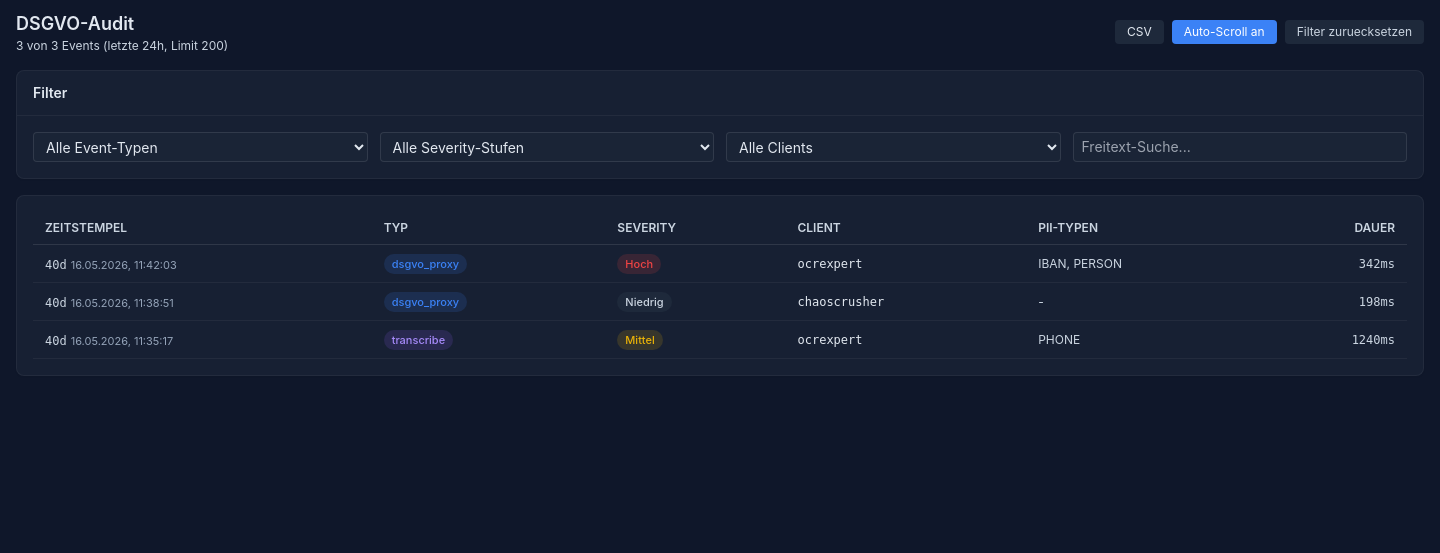
Test case: AuditTab › zweiter Klick auf dieselbe Zeile klappt sie wieder ein
Click the row with test id "audit-row-aaa-001" at (720, 264), box [33,244,1407,282]
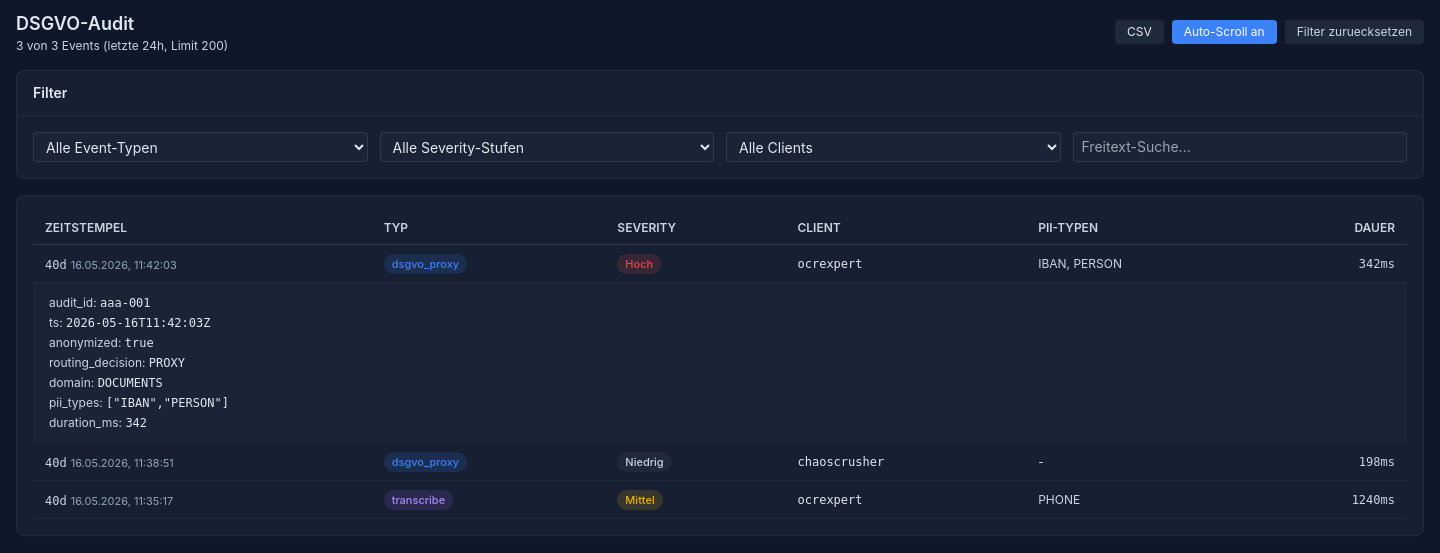
Expected: the row with test id "audit-row-expanded-aaa-001" is shown, [33,282,1407,443]
Click the row with test id "audit-row-aaa-001" at (720, 264), box [33,244,1407,282]
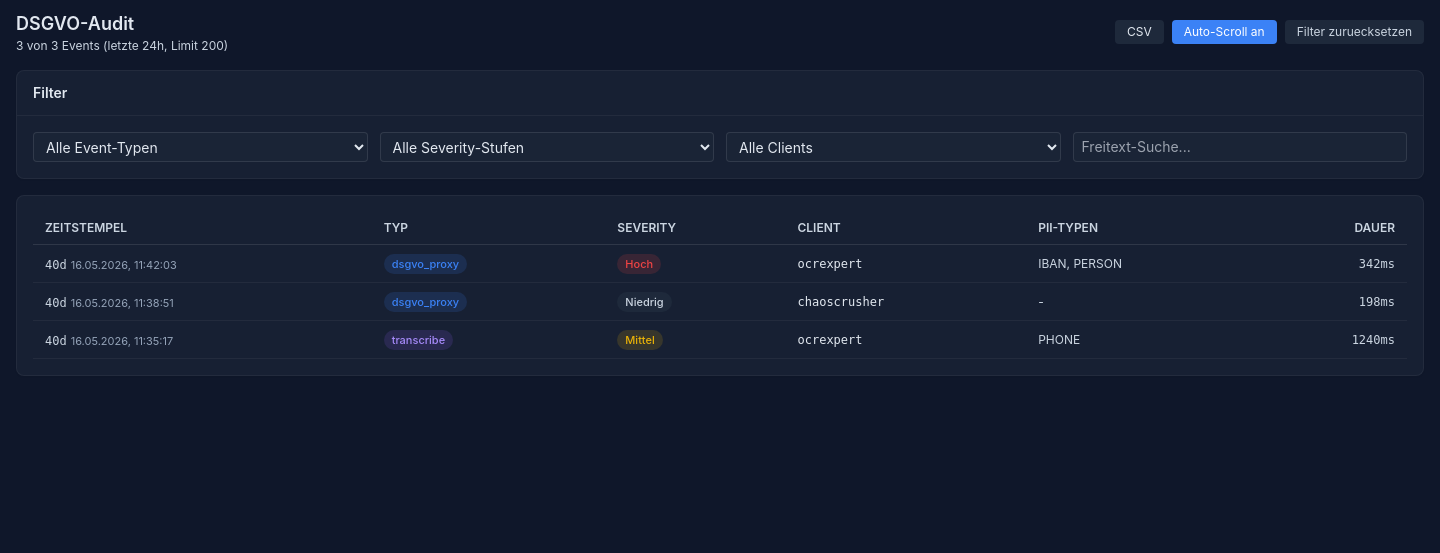
Expected: the row with test id "audit-row-expanded-aaa-001" is gone
